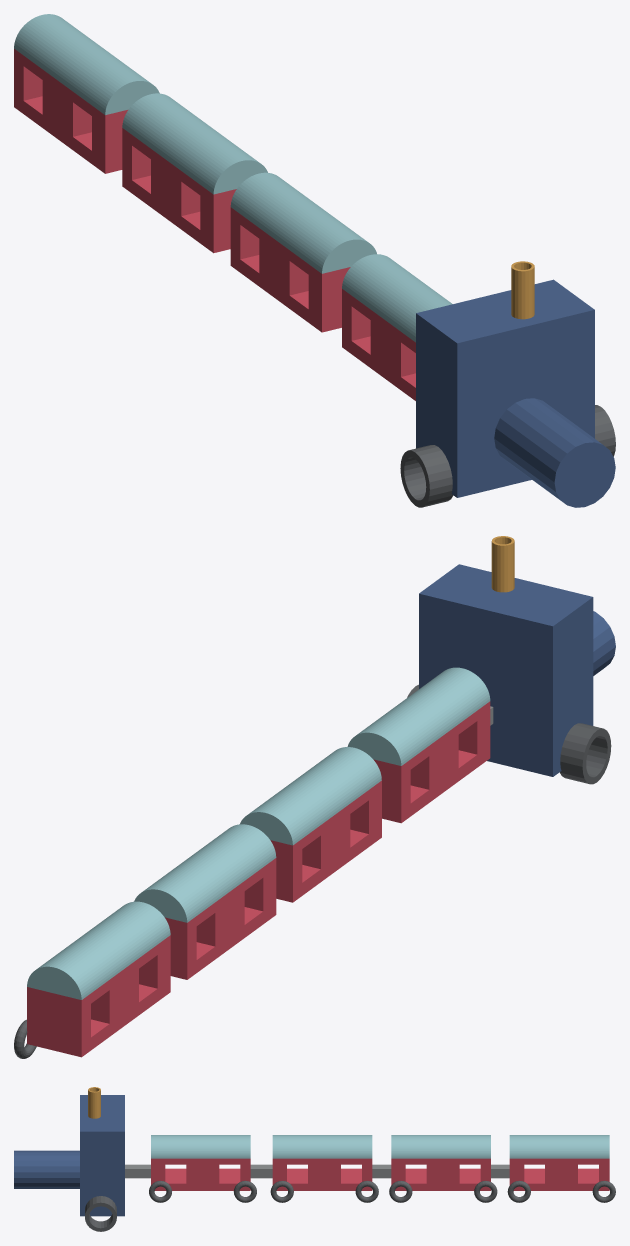
File: train.glb
3 renders of one model, top to bottom at view 1: azimuth 30°, elevation 25°; view 2: azimuth 150°, elevation 25°; view 3: azimuth 270°, elevation 25°, orthographic. The views are drawn at different scales.
Parts seen in each view (by area): view 1: Mesh_Mesh_head_geo.001_lambert2SG.001; view 2: Mesh_Mesh_head_geo.001_lambert2SG.001; view 3: Mesh_Mesh_head_geo.001_lambert2SG.001.
Boxes of the visible parts, x1,y1,x2,y2 form: Mesh_Mesh_head_geo.001_lambert2SG.001: [14, 14, 615, 507]; Mesh_Mesh_head_geo.001_lambert2SG.001: [14, 536, 615, 1058]; Mesh_Mesh_head_geo.001_lambert2SG.001: [14, 1087, 615, 1231].
Size of the model in its own units: 73 by 82 by 374.
